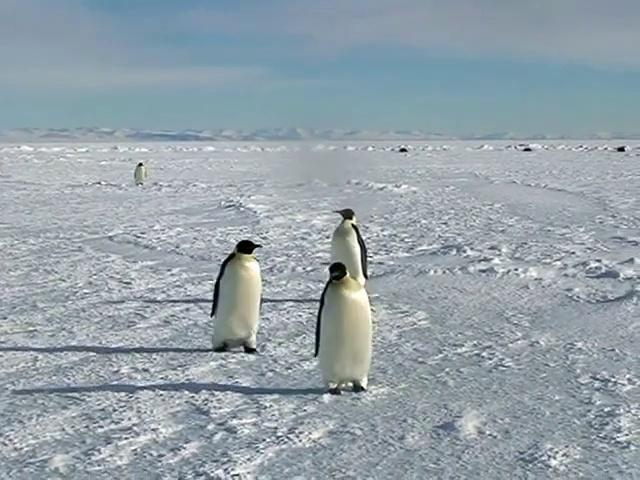animal: (332, 210, 370, 285)
